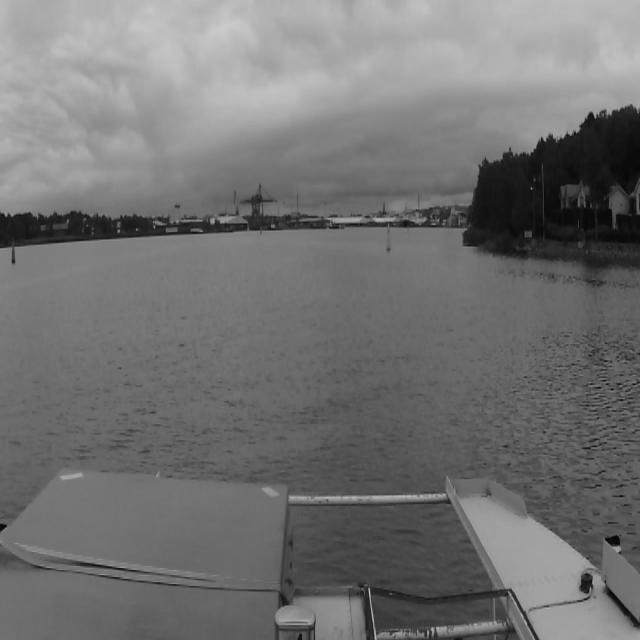buoy: (387, 224, 391, 250), (12, 240, 16, 261), (405, 222, 409, 235), (260, 227, 260, 234)
